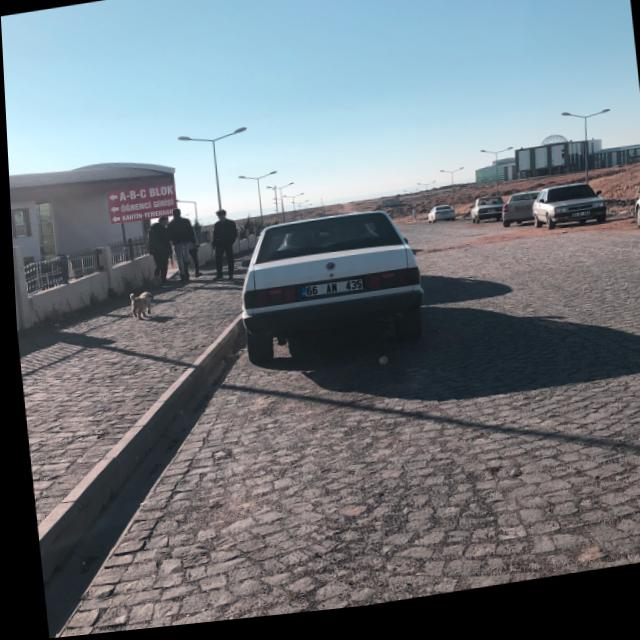license_plate: (296, 284, 362, 304)
